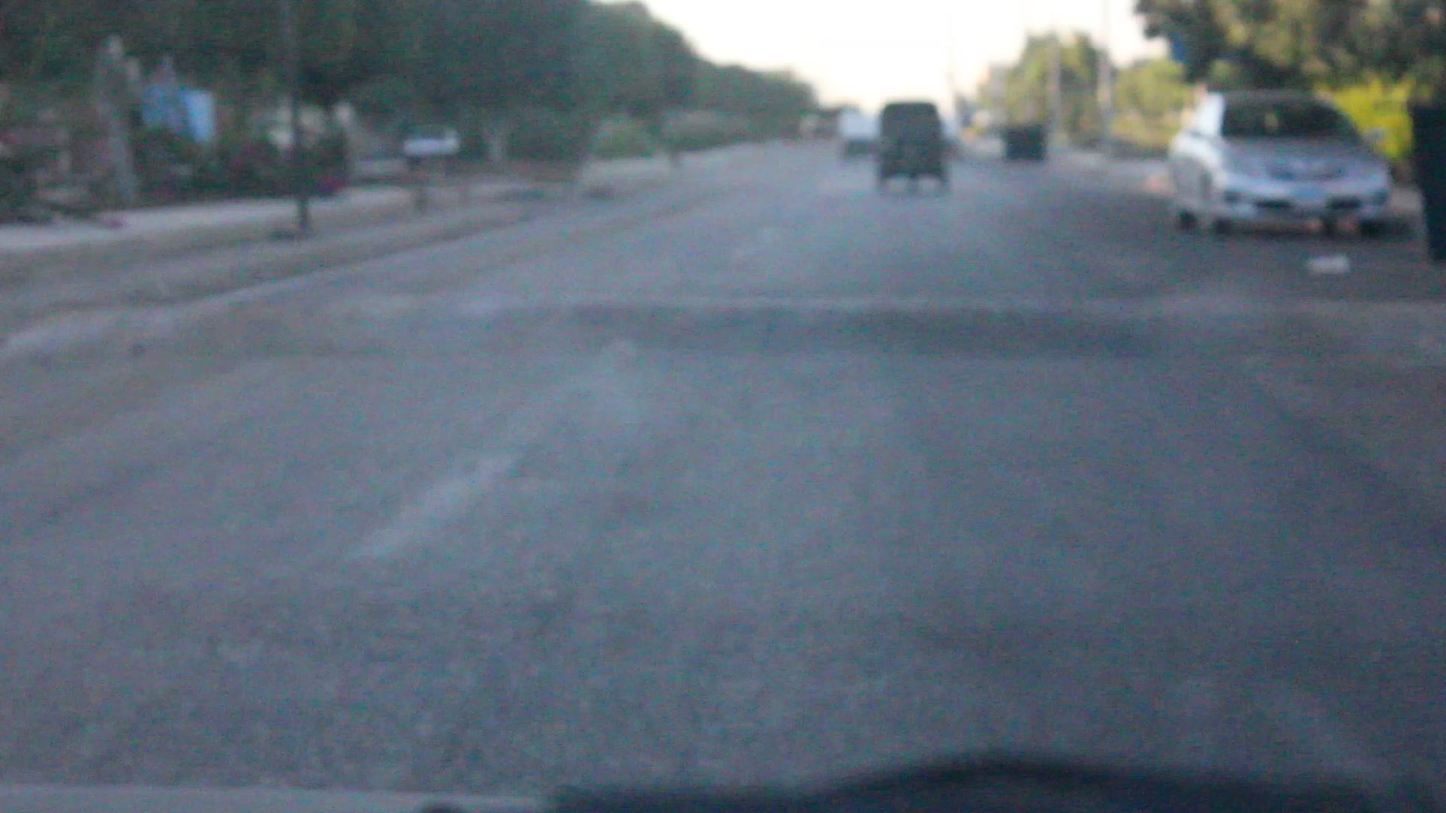Bump: (245, 275, 1446, 352)
